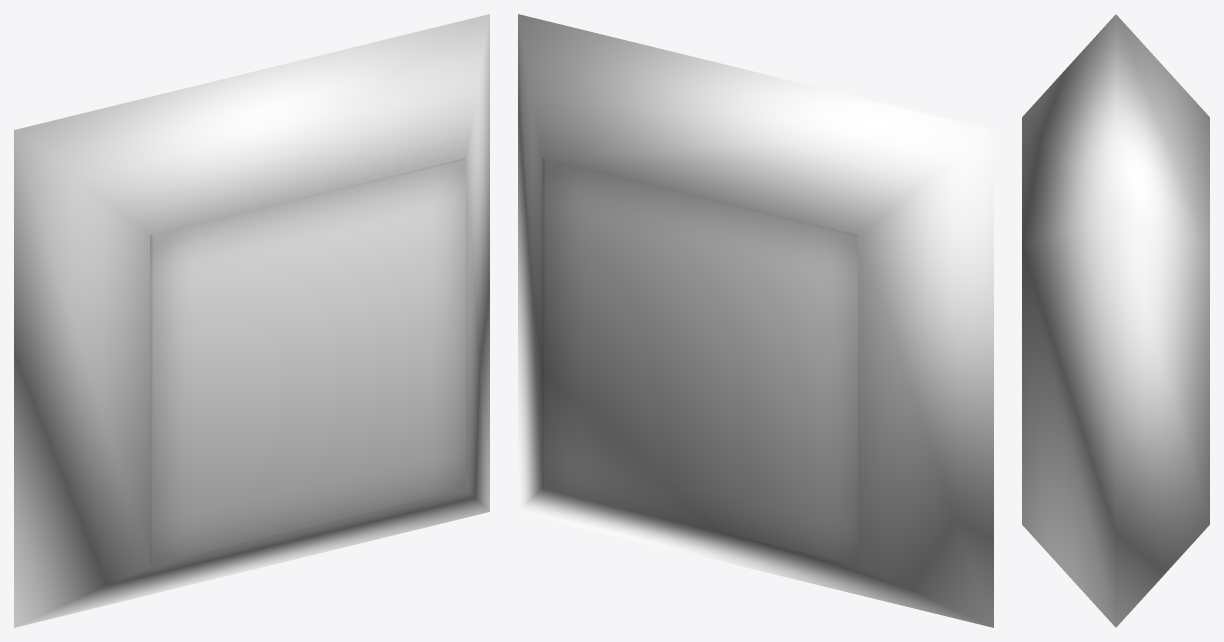
The model's file is SquarePillow_1.fbx.
3 views of the same model, side by side, from view 1: azimuth 30°, elevation 25°; view 2: azimuth 150°, elevation 25°; view 3: azimuth 270°, elevation 25° (orthographic). The views are drawn at different scales.
Parts seen in each view (by area): view 1: ThrowPillow_White_01; view 2: ThrowPillow_White_01; view 3: ThrowPillow_White_01.
Part boxes in pixels (x1,y1,x2,y2): ThrowPillow_White_01: (14,14,489,627); ThrowPillow_White_01: (518,14,993,627); ThrowPillow_White_01: (1022,14,1209,627).
Bounding box in the file's own units: 0.5167 × 0.5167 × 0.21.
